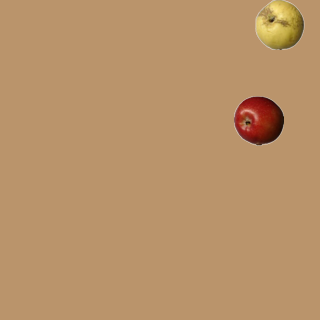Apple Braeburn: (233, 95, 283, 145)
Apple Golden 1: (254, 0, 304, 49)
